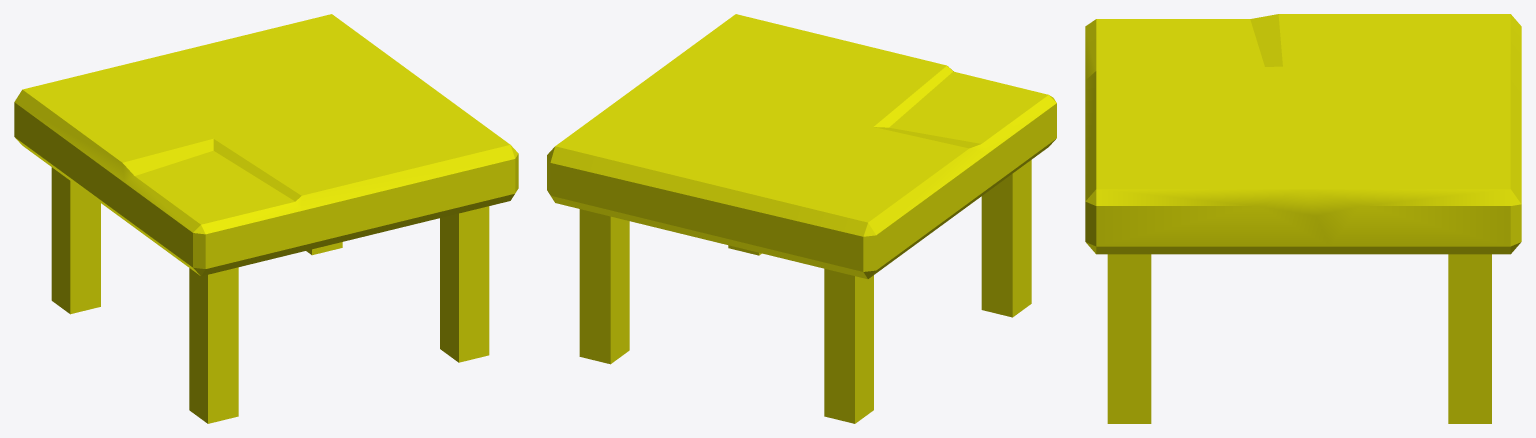
3 renders of one model, left to right at view 1: azimuth 30°, elevation 25°; view 2: azimuth 150°, elevation 25°; view 3: azimuth 270°, elevation 25°, orthographic. The views are drawn at different scales.
Visible parts, largest first — view 1: ban; view 2: ban; view 3: ban.
Part boxes in pixels (left/top/right/bottom): ban: left=14, top=14, right=518, bottom=423; ban: left=547, top=14, right=1056, bottom=423; ban: left=1085, top=14, right=1521, bottom=423.
Size of the model in its own units: 1.89 by 1.17 by 1.89.
Materials: 1 (1 with a texture image).
